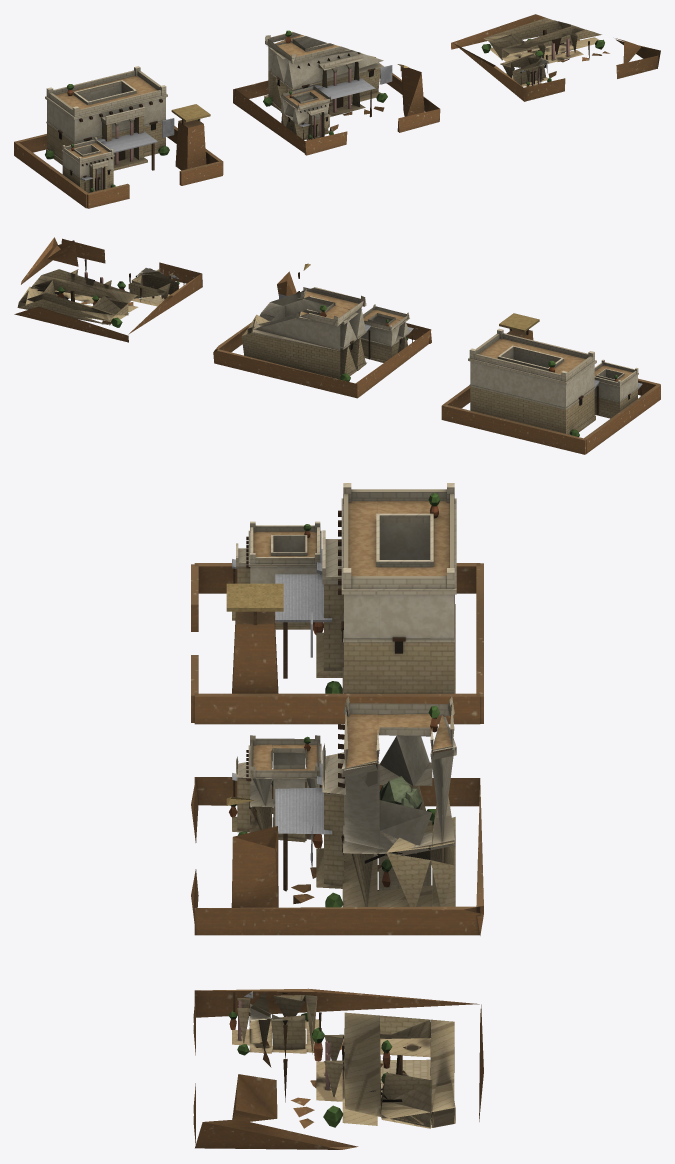
File: civic-classical-levant.glb
3 views of the same model, one above another, from view 1: azimuth 30°, elevation 25°; view 2: azimuth 150°, elevation 25°; view 3: azimuth 270°, elevation 25° (orthographic). The views are drawn at different scales.
Visible parts, largest first — view 1: LOD0, LOD0.001, LOD0.002; view 2: LOD0, LOD0.001, LOD0.002; view 3: LOD0, LOD0.001, LOD0.002.
Boxes of the visible parts, x1=… form: LOD0: x1=14, y1=66, x2=223, y2=208; LOD0.001: x1=233, y1=30, x2=440, y2=155; LOD0.002: x1=451, y1=14, x2=660, y2=101; LOD0: x1=441, y1=313, x2=660, y2=454; LOD0.001: x1=213, y1=263, x2=431, y2=398; LOD0.002: x1=14, y1=237, x2=202, y2=342; LOD0: x1=191, y1=483, x2=483, y2=724; LOD0.001: x1=191, y1=696, x2=483, y2=935; LOD0.002: x1=193, y1=988, x2=483, y2=1149.
Size of what is drawn, in the model's own units: 7.93 by 0.92 by 1.75.
3 materials, 3 textured.
